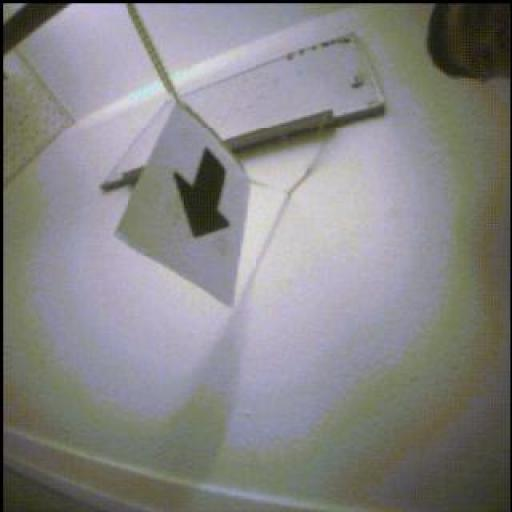Arrow: (175, 150, 230, 238)
